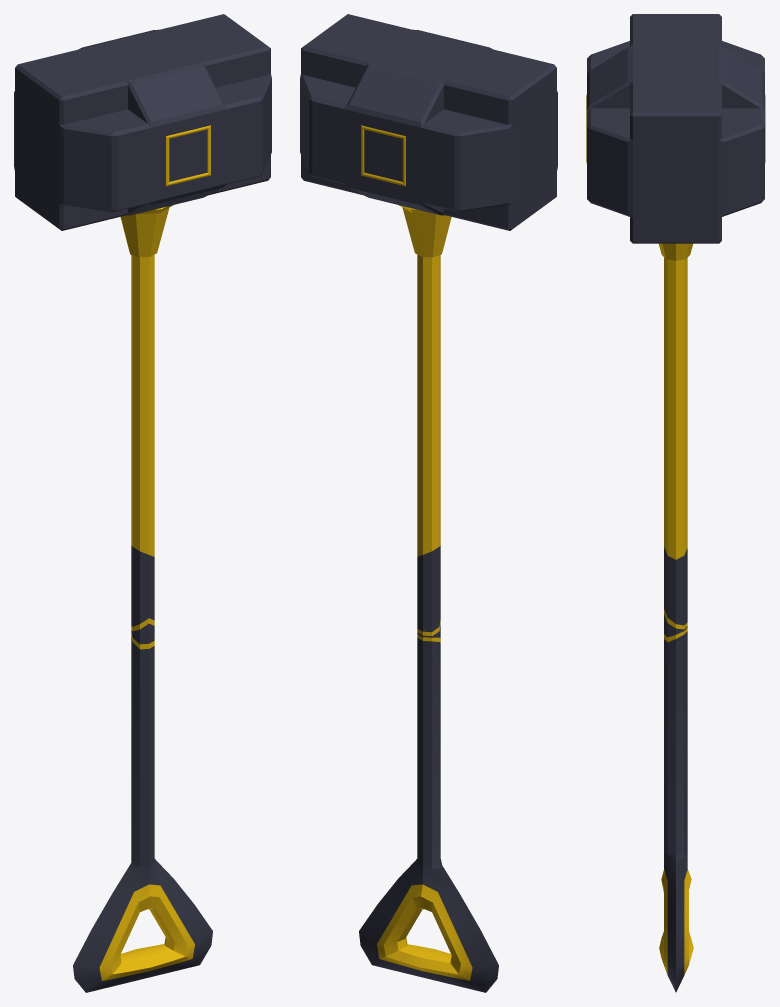
The model's file is Hammer new.fbx.
3 views of the same model, side by side, from view 1: azimuth 30°, elevation 25°; view 2: azimuth 150°, elevation 25°; view 3: azimuth 270°, elevation 25° (orthographic). The views are drawn at different scales.
Parts seen in each view (by area): view 1: Hammer; view 2: Hammer; view 3: Hammer.
Boxes of the visible parts, x1=… form: Hammer: x1=14, y1=14, x2=271, y2=992; Hammer: x1=300, y1=14, x2=557, y2=992; Hammer: x1=586, y1=14, x2=765, y2=992.
Bounding box in the file's own units: 183 × 763 × 137.
Materials: 1 (1 with a texture image).
